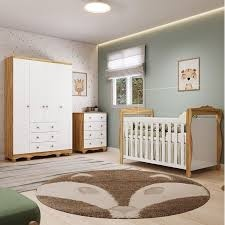crib: (120, 106, 221, 176)
